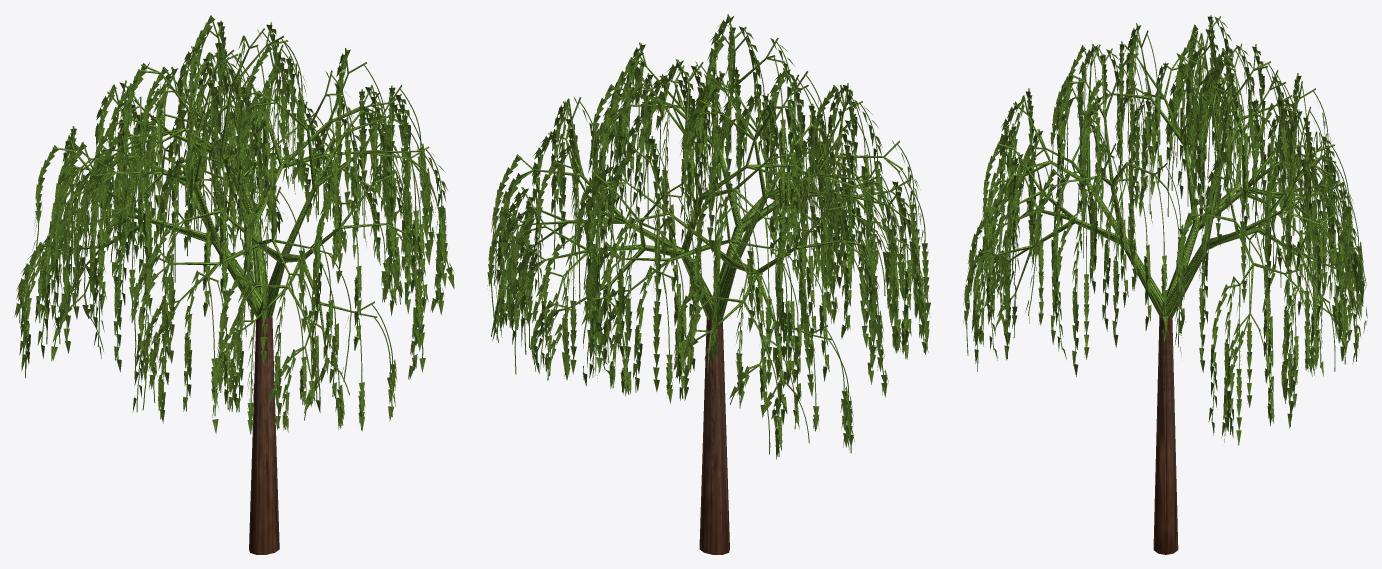
File: cay-duong-03.glb
The picture shows the model from 3 angles, left to right: view 1: azimuth 30°, elevation 25°; view 2: azimuth 150°, elevation 25°; view 3: azimuth 270°, elevation 25°; orthographic projection.
Size of the model in its own units: 4.47 by 5.47 by 4.01.
1 material, 1 textured.
